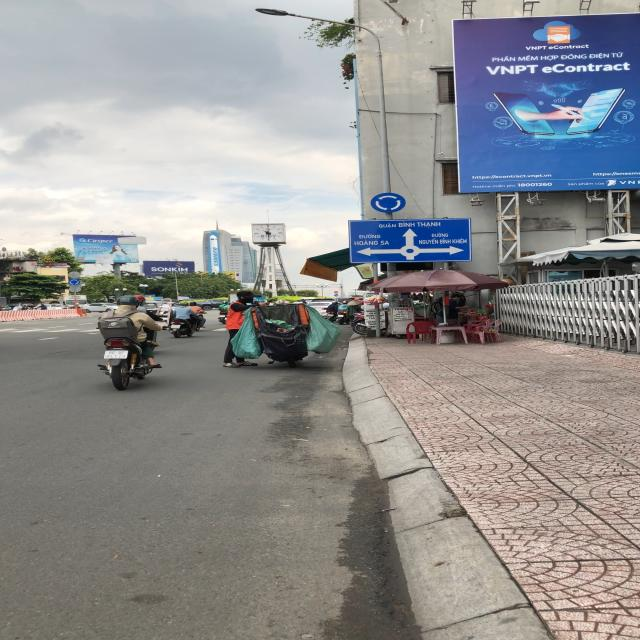Bien bao noi giao nhau chay theo vong xuyen: (370, 191, 408, 214), (67, 277, 82, 286)
